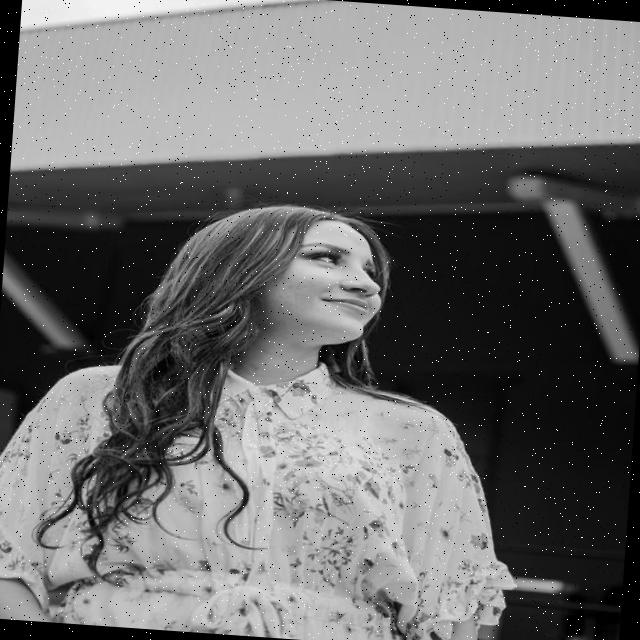Happiness: (258, 212, 394, 352)
